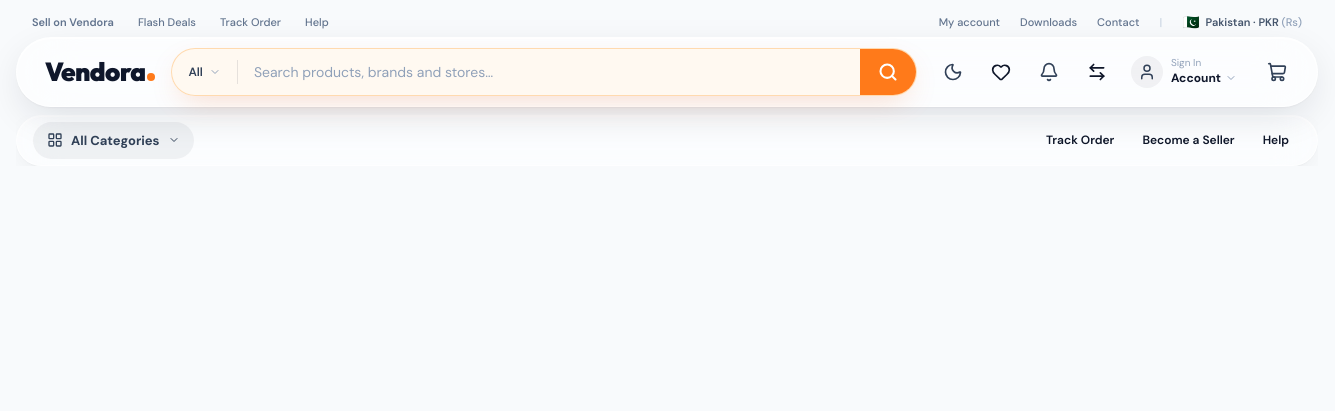
Scenario: Navbar (header redesign, pill shape, smart sticky, menu clip fix) › never clips the MegaMenu: opening All Categories un-clips the strip wrapper
Click the button "All Categories". click: (113, 140)
box: [33,122,194,159]
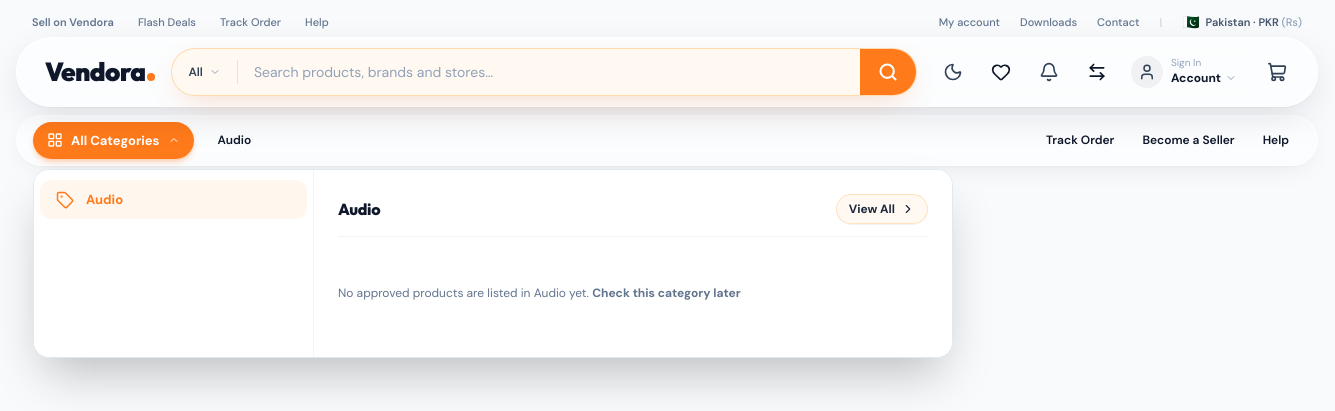
Expected: the element with id "all-categories-menu" is shown, [33,169,953,358]
